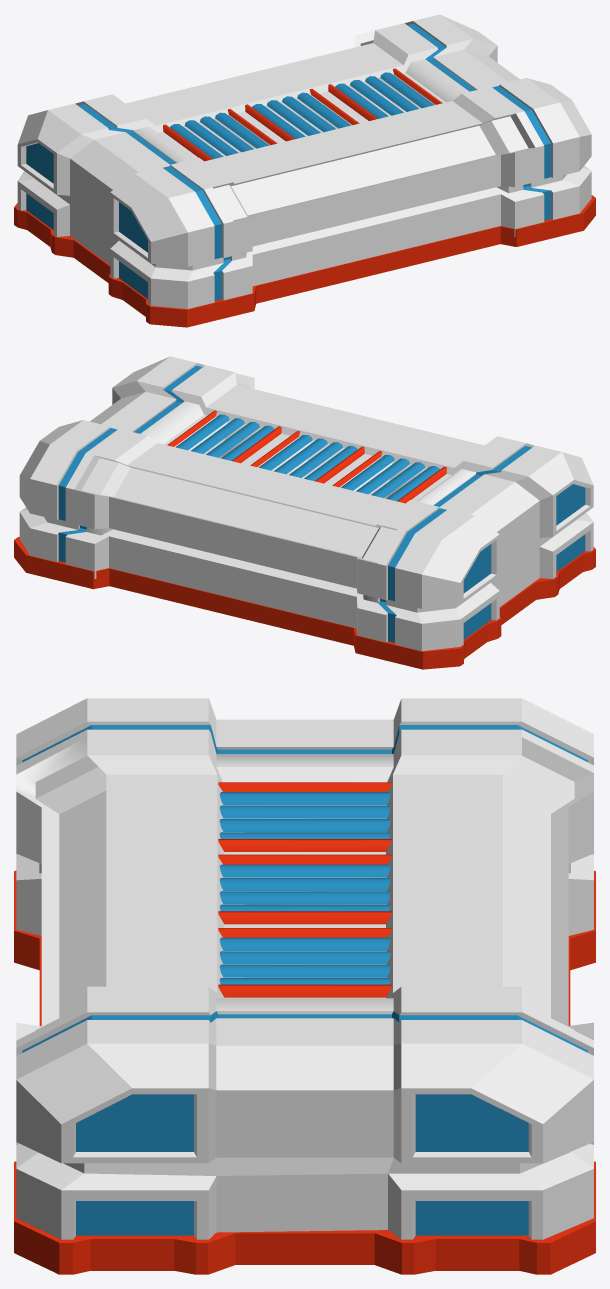
Rendered from Props_ChestTop.001.fbx.
3 views of the same model, one above another, from view 1: azimuth 30°, elevation 25°; view 2: azimuth 150°, elevation 25°; view 3: azimuth 270°, elevation 25° (orthographic). The views are drawn at different scales.
Parts seen in each view (by area): view 1: Props_ChestTop.001; view 2: Props_ChestTop.001; view 3: Props_ChestTop.001.
Part boxes in pixels (x1,y1,x2,y2): Props_ChestTop.001: [14, 14, 595, 327]; Props_ChestTop.001: [14, 356, 595, 669]; Props_ChestTop.001: [14, 698, 595, 1274].
Bounding box in the file's own units: 1.29 × 0.3151 × 0.8052.
